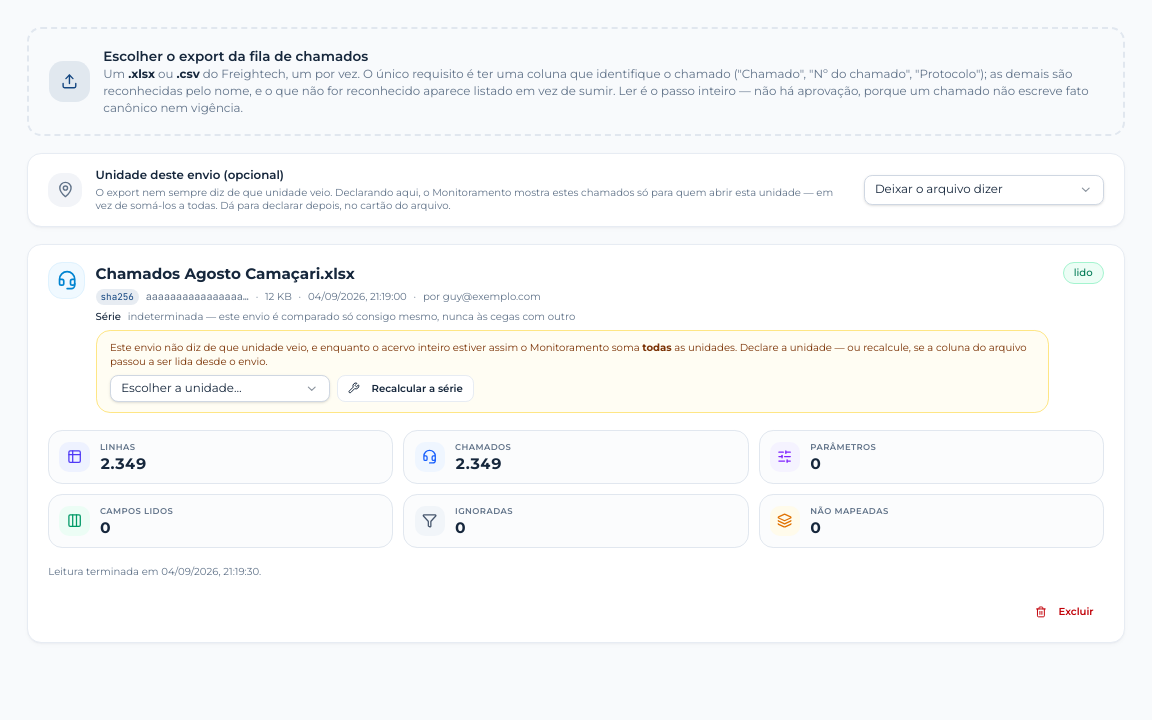
Test: consertar o envio que já entrou › recalcular sem declarar não manda unidade, e a tela diz o que saiu
The image size is (1152, 720).
Click the button "Recalcular a série" at (405, 388), box left=337, top=375, right=474, bottom=402
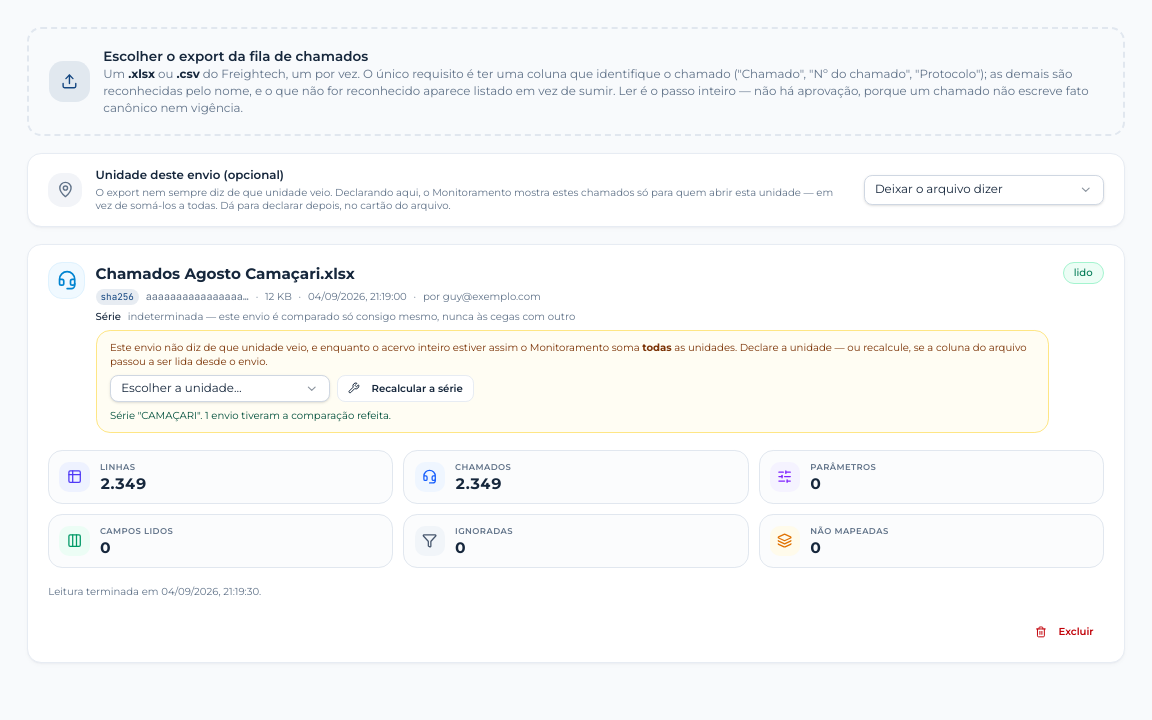
Expected: the text "Série \"CAMAÇARI\". 1 envio tiveram a comparação refeita." is shown, left=110, top=408, right=391, bottom=422
